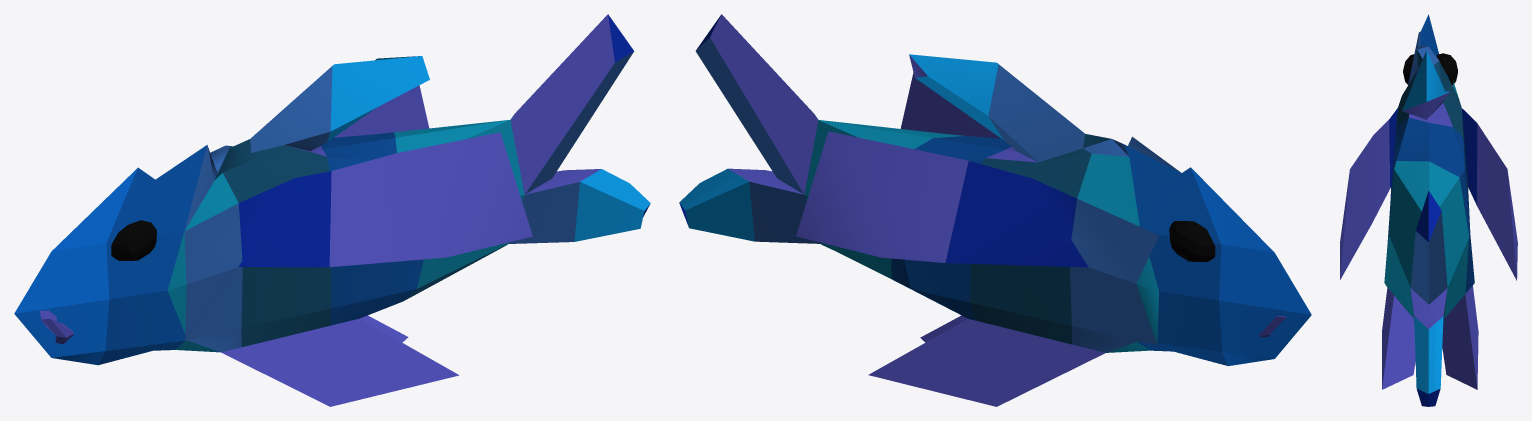
The model's file is Fish.fbx.
The picture shows the model from 3 angles, left to right: view 1: azimuth 30°, elevation 25°; view 2: azimuth 150°, elevation 25°; view 3: azimuth 270°, elevation 25°; orthographic projection. The views are drawn at different scales.
Visible parts, largest first — view 1: polySurface5; view 2: polySurface5; view 3: polySurface5.
Boxes of the visible parts, x1,y1,x2,y2 form: polySurface5: (14, 14, 650, 406); polySurface5: (679, 14, 1311, 406); polySurface5: (1340, 14, 1517, 406).
Bounding box in the file's own units: 5.12 × 2.57 × 1.34.
